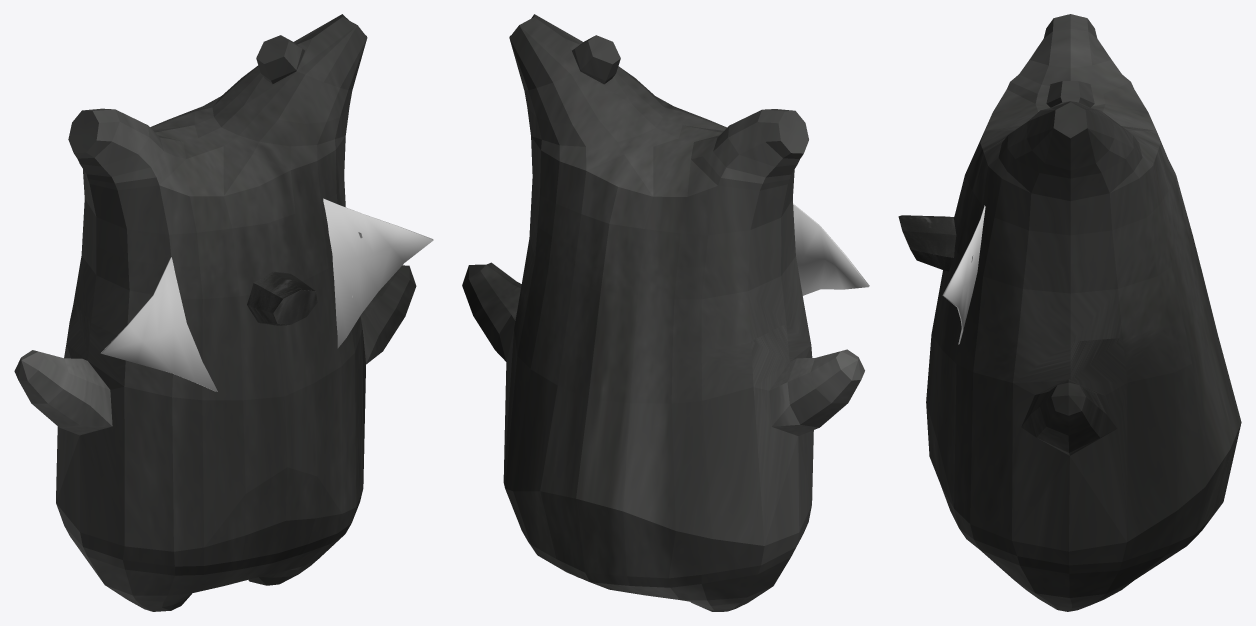
File: frame_0069.obj
3 renders of one model, left to right at view 1: azimuth 30°, elevation 25°; view 2: azimuth 150°, elevation 25°; view 3: azimuth 270°, elevation 25°, orthographic.
Parts seen in each view (by area): view 1: korok, leaf, nose; view 2: korok, leaf; view 3: korok, nose, leaf.
Part boxes in pixels (box(x1,y1,x2,y2)): korok: box(14, 14, 416, 611); leaf: box(101, 198, 433, 391); nose: box(247, 271, 317, 325); korok: box(462, 14, 864, 611); leaf: box(793, 203, 869, 295); korok: box(926, 14, 1241, 611); nose: box(898, 215, 956, 271); leaf: box(942, 205, 985, 344).
Size of the model in its own units: 1.67 by 2.21 by 1.27.
